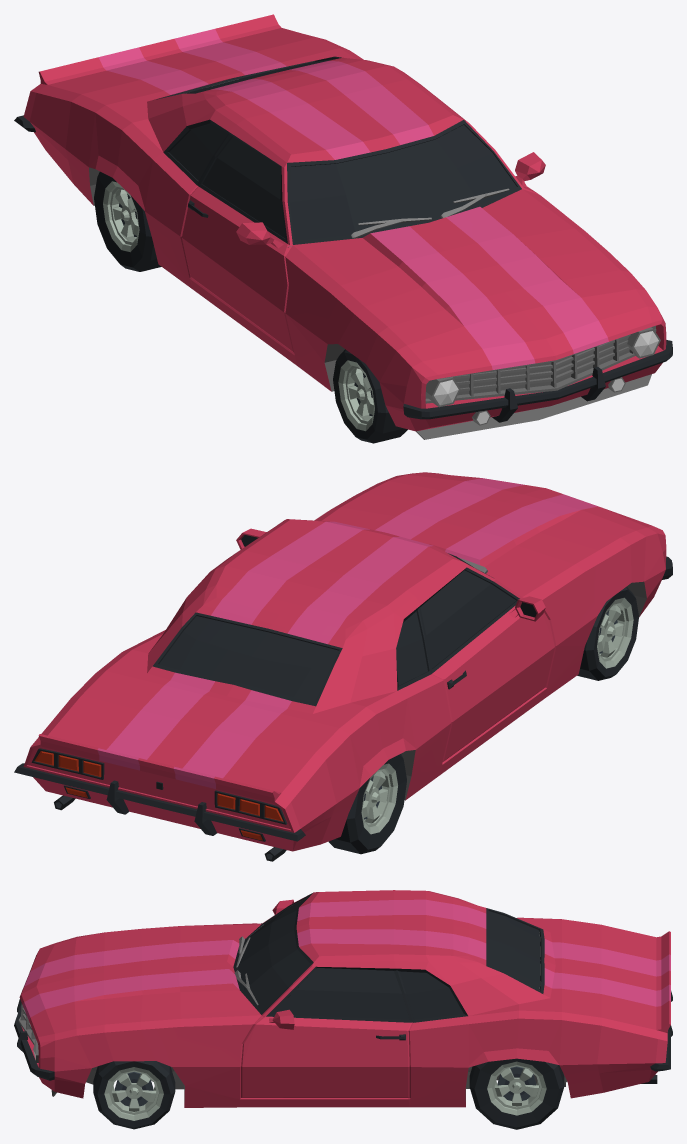
Rendered from Mus_Pink.fbx.
3 views of the same model, one above another, from view 1: azimuth 30°, elevation 25°; view 2: azimuth 150°, elevation 25°; view 3: azimuth 270°, elevation 25° (orthographic). The views are drawn at different scales.
Visible parts, largest first — view 1: SM_Veh_Car_Muscle_01.003, SM_Veh_Car_Muscle_Wheel_rr.003, SM_Veh_Car_Muscle_Wheel_fr.003; view 2: SM_Veh_Car_Muscle_01.003, SM_Veh_Car_Muscle_Wheel_rr.003, SM_Veh_Car_Muscle_Wheel_fr.003; view 3: SM_Veh_Car_Muscle_01.003, SM_Veh_Car_Muscle_Wheel_rl.003, SM_Veh_Car_Muscle_Wheel_fl.003.
Part boxes in pixels (x1,y1,x2,y2): SM_Veh_Car_Muscle_01.003: (14,14,672,439); SM_Veh_Car_Muscle_Wheel_rr.003: (94,171,161,271); SM_Veh_Car_Muscle_Wheel_fr.003: (333,349,407,443); SM_Veh_Car_Muscle_01.003: (14,472,672,861); SM_Veh_Car_Muscle_Wheel_rr.003: (328,754,406,854); SM_Veh_Car_Muscle_Wheel_fr.003: (577,586,638,680); SM_Veh_Car_Muscle_01.003: (14,890,672,1107); SM_Veh_Car_Muscle_Wheel_rl.003: (469,1058,564,1129); SM_Veh_Car_Muscle_Wheel_fl.003: (93,1061,175,1129).
Bounding box in the file's own units: 2.21 × 1.36 × 5.13.
